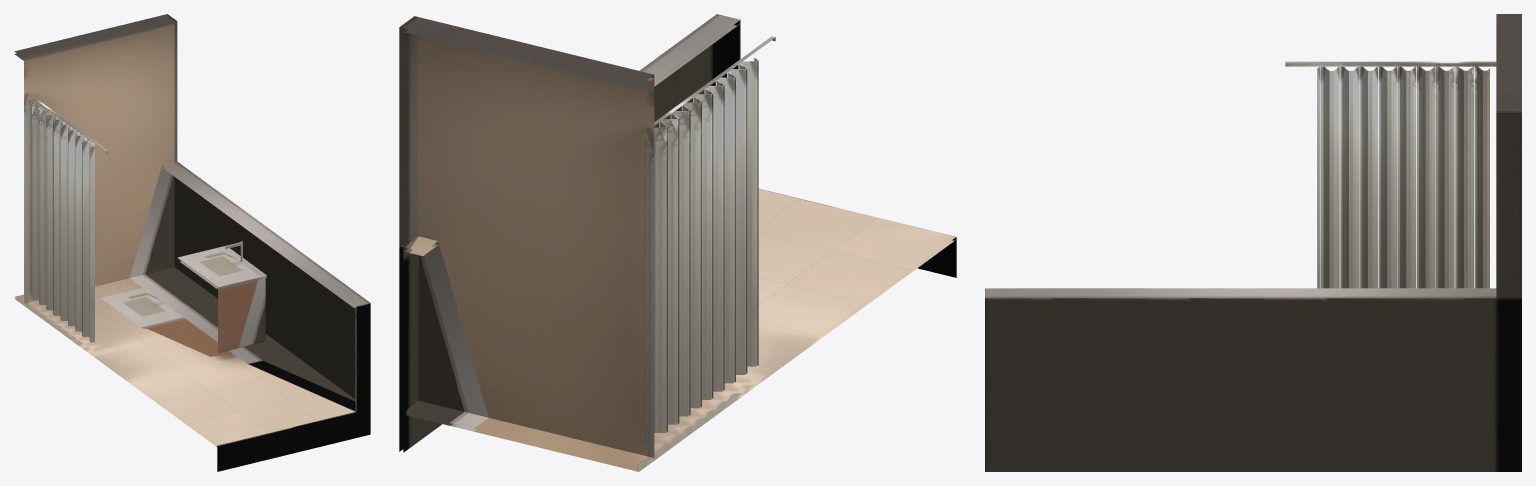
File: side-back-right.glb
3 renders of one model, left to right at view 1: azimuth 30°, elevation 25°; view 2: azimuth 150°, elevation 25°; view 3: azimuth 270°, elevation 25°, orthographic. The views are drawn at different scales.
Parts seen in each view (by area): view 1: sideBackRight; view 2: sideBackRight; view 3: sideBackRight.
Boxes of the visible parts, x1=… form: sideBackRight: x1=14, y1=14, x2=370, y2=471; sideBackRight: x1=399, y1=14, x2=956, y2=471; sideBackRight: x1=985, y1=14, x2=1521, y2=471.
Bounding box in the file's own units: 1.83 × 3.1 × 4.2.
1 material, 1 textured.
